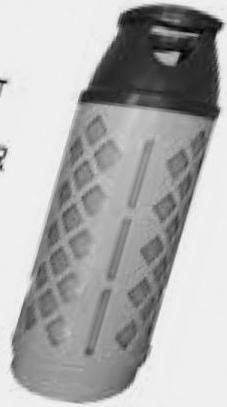cylinder: (1, 1, 227, 407)
